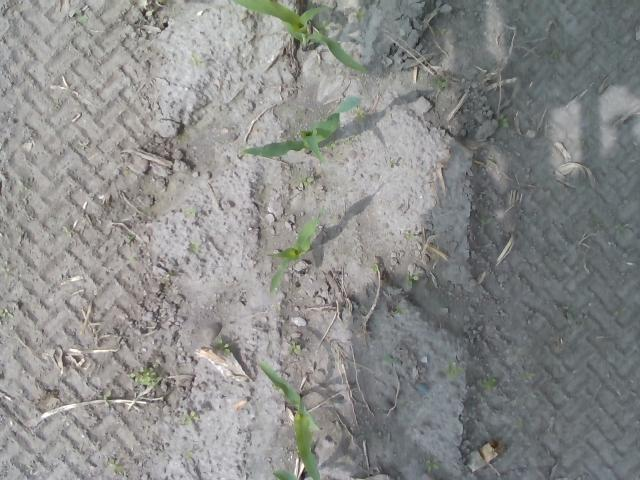Maize: (230, 0, 368, 75), (237, 96, 362, 163), (257, 360, 321, 480), (266, 207, 324, 295)
Weeds: (128, 365, 156, 385), (294, 176, 314, 190), (480, 377, 498, 389), (424, 458, 439, 472), (288, 340, 302, 354), (405, 272, 419, 286), (318, 19, 332, 33), (445, 368, 462, 379), (216, 339, 230, 352), (496, 114, 509, 128), (353, 8, 364, 22), (384, 353, 396, 365), (355, 107, 366, 120), (433, 79, 448, 88), (78, 14, 90, 24), (192, 52, 200, 65), (402, 231, 412, 241), (190, 410, 198, 420), (0, 308, 8, 317), (127, 234, 135, 241), (326, 142, 334, 148)
